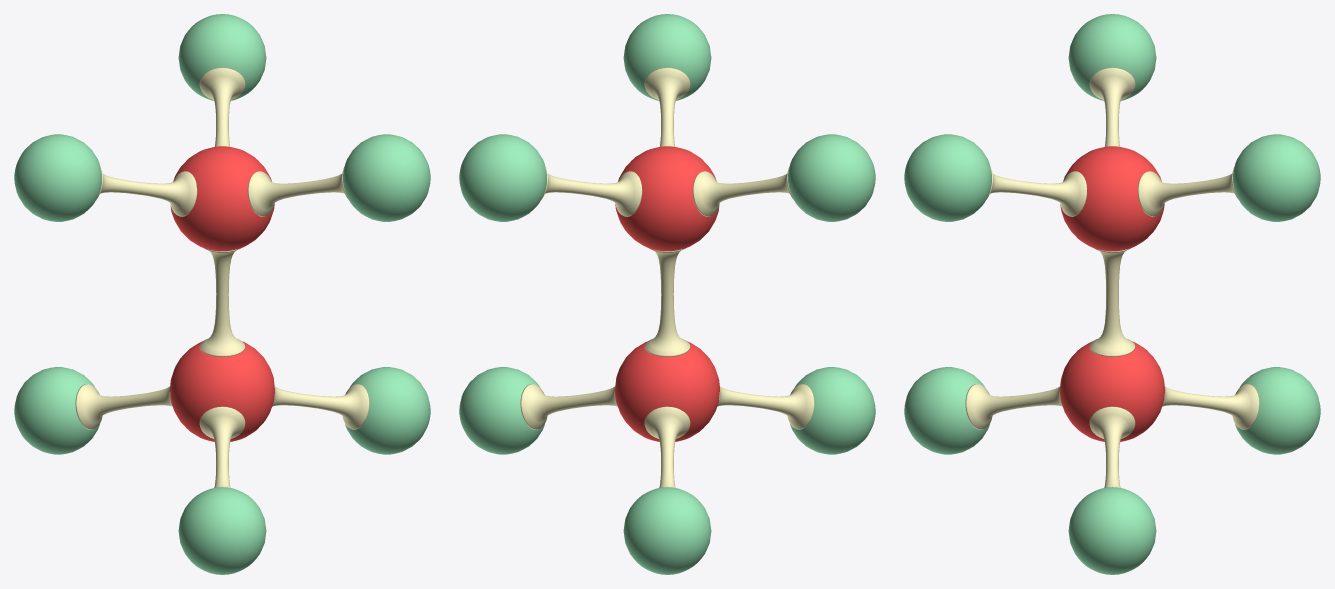
Rendered from ethane.glb.
3 renders of one model, left to right at view 1: azimuth 30°, elevation 25°; view 2: azimuth 150°, elevation 25°; view 3: azimuth 270°, elevation 25°, orthographic.
Visible parts, largest first — view 1: ethane; view 2: ethane; view 3: ethane.
Boxes of the visible parts, <box> form: ethane: <box>14,14,430,574</box>; ethane: <box>459,14,875,574</box>; ethane: <box>904,14,1320,574</box>.
Size of the model in its own units: 0.6751 by 0.6258 by 0.6017.
